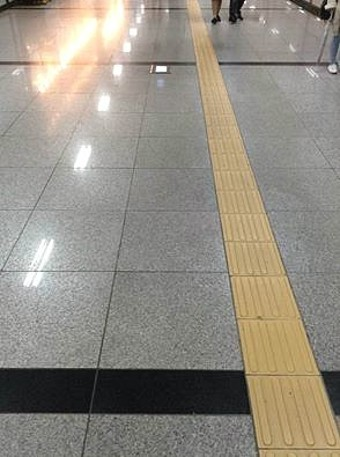guideBlock: (245, 372, 340, 443), (214, 223, 304, 290), (223, 308, 311, 375), (226, 267, 304, 313), (219, 199, 268, 249), (216, 174, 267, 209)
